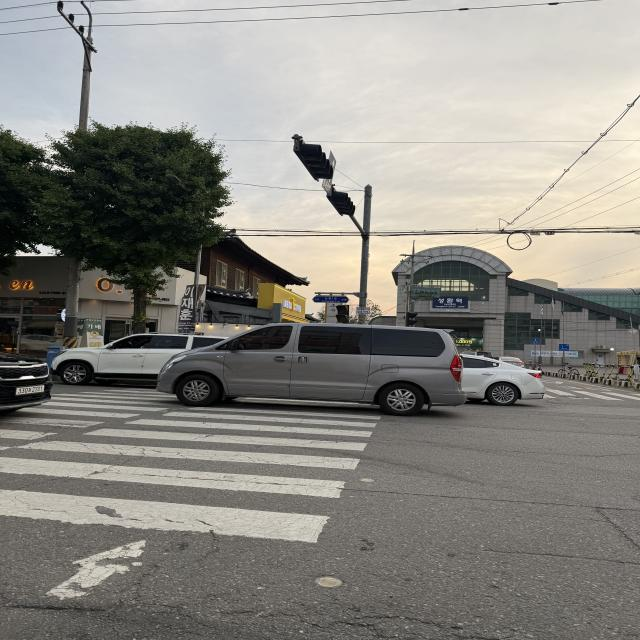car: (152, 319, 466, 420), (49, 332, 230, 387), (0, 338, 61, 422), (459, 353, 541, 405)
